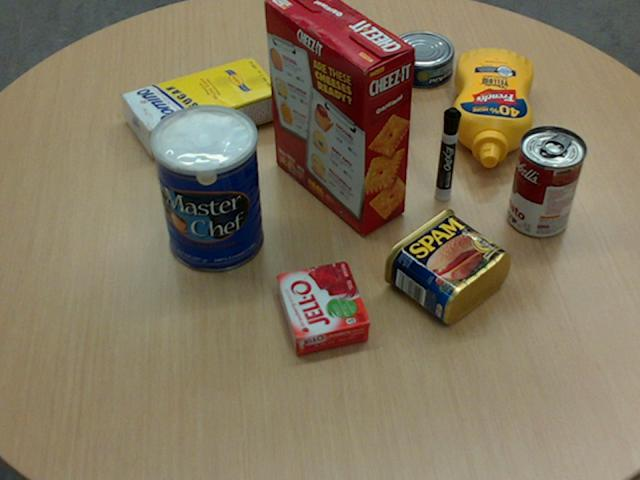cracker_box: (264, 0, 413, 234)
gelatin_box: (277, 260, 369, 354)
large_marker: (435, 108, 460, 200)
master_chef_can: (150, 104, 262, 272)
mug: (338, 35, 415, 128)
mustard_bottle: (450, 48, 531, 167)
potted_meat_can: (382, 207, 509, 322)
sugar_box: (120, 55, 283, 157)
tomato_soup_can: (507, 125, 585, 237)
tuna_fish_can: (388, 30, 453, 86)
